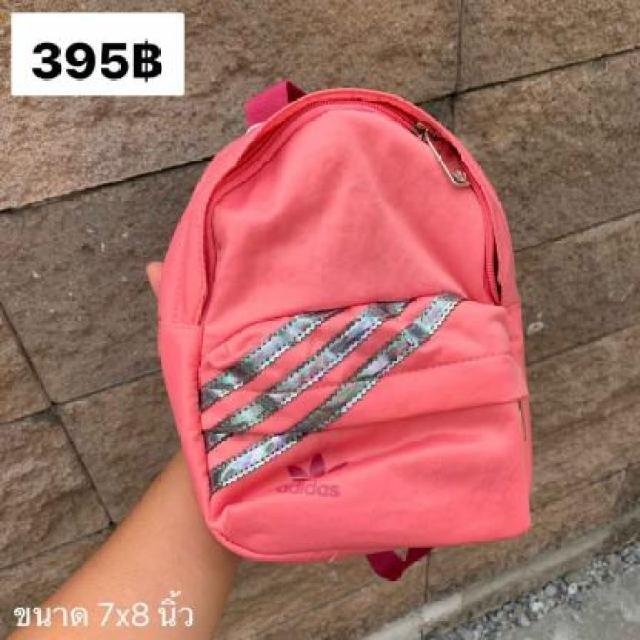Bag: (130, 67, 539, 564)
